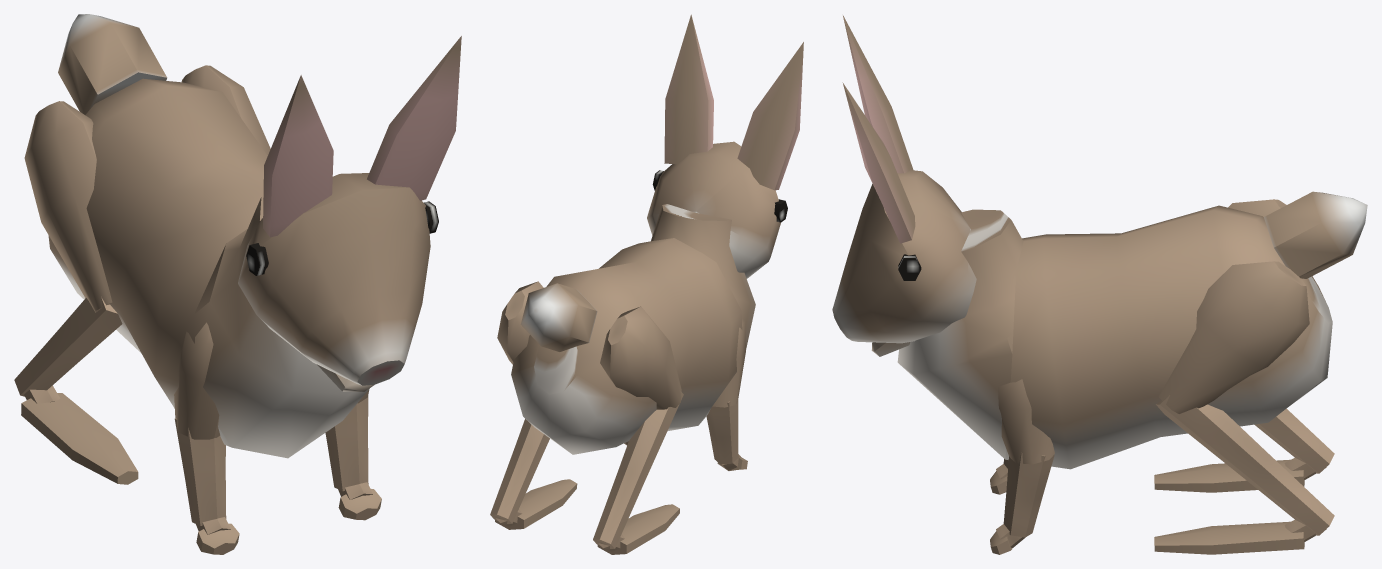
File: rabbit.obj
3 views of the same model, side by side, from view 1: azimuth 30°, elevation 25°; view 2: azimuth 150°, elevation 25°; view 3: azimuth 270°, elevation 25° (orthographic). The views are drawn at different scales.
Parts seen in each view (by area): view 1: rabbit_mesh; view 2: rabbit_mesh; view 3: rabbit_mesh.
Boxes of the visible parts, bbox=[...] form: rabbit_mesh: bbox=[14, 14, 461, 554]; rabbit_mesh: bbox=[490, 14, 803, 554]; rabbit_mesh: bbox=[832, 15, 1367, 554].
Bounding box in the file's own units: 0.1346 × 0.3244 × 0.3323.
1 material, 1 textured.
